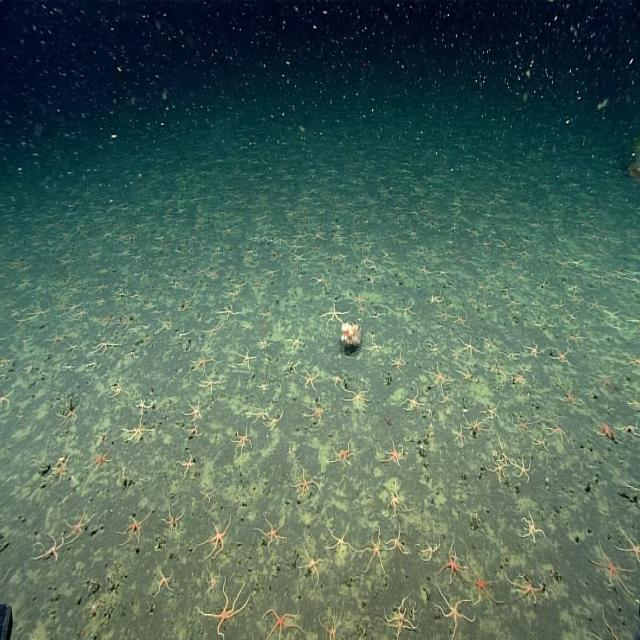brittle-stars: (194, 574, 252, 639), (586, 536, 635, 597), (431, 579, 476, 640), (463, 544, 502, 608), (192, 511, 232, 561), (382, 587, 418, 640), (260, 597, 301, 640), (113, 505, 154, 548), (356, 521, 386, 576), (504, 568, 545, 606), (65, 498, 99, 543), (609, 516, 640, 564), (435, 535, 468, 580), (252, 513, 288, 554), (324, 521, 356, 565), (378, 476, 412, 516), (296, 542, 326, 586), (30, 528, 65, 564), (120, 412, 156, 446), (422, 356, 454, 394), (82, 441, 114, 477), (338, 380, 371, 414), (290, 460, 320, 497), (516, 504, 546, 540), (317, 301, 349, 332), (317, 597, 340, 640), (383, 519, 410, 555), (56, 395, 82, 432), (459, 410, 490, 441), (589, 414, 620, 444), (327, 434, 355, 466), (49, 448, 73, 485), (378, 431, 402, 467), (557, 374, 583, 407), (301, 395, 329, 425), (230, 422, 254, 457), (483, 452, 509, 484), (451, 331, 484, 356), (191, 346, 217, 376), (547, 341, 577, 367), (160, 504, 186, 534), (476, 392, 501, 422), (153, 564, 175, 598), (415, 532, 439, 563), (201, 562, 222, 596), (214, 298, 242, 323), (397, 388, 426, 412), (176, 446, 197, 479), (483, 360, 508, 385), (200, 317, 224, 343), (181, 394, 203, 422), (511, 449, 530, 481), (262, 404, 284, 431), (509, 411, 533, 435), (91, 336, 123, 354), (432, 299, 456, 323), (362, 331, 385, 356), (234, 342, 256, 368), (611, 417, 639, 437), (42, 328, 69, 348), (385, 346, 407, 370), (448, 304, 470, 328), (302, 367, 322, 393), (495, 340, 518, 362), (395, 297, 416, 321), (0, 382, 20, 407), (197, 376, 220, 397), (520, 334, 539, 359), (451, 422, 469, 448), (541, 417, 564, 437), (476, 330, 495, 354), (489, 435, 508, 459), (245, 402, 267, 422), (309, 269, 327, 293), (182, 421, 202, 442), (172, 292, 193, 312), (284, 330, 304, 350), (117, 307, 135, 329), (359, 270, 381, 288), (438, 383, 455, 406), (134, 397, 154, 416), (153, 316, 173, 335), (346, 291, 371, 306), (106, 378, 124, 398), (198, 484, 216, 504), (72, 304, 92, 322), (506, 368, 524, 388), (95, 313, 115, 331), (455, 364, 474, 382), (140, 327, 156, 348), (360, 256, 381, 272), (531, 434, 549, 452), (418, 264, 434, 283), (255, 331, 270, 350), (429, 288, 445, 305), (367, 307, 384, 323), (86, 355, 99, 375), (434, 265, 451, 280), (423, 338, 439, 353), (328, 372, 344, 387), (125, 346, 140, 362), (255, 378, 272, 392), (113, 287, 130, 301), (337, 248, 353, 262), (129, 287, 142, 304), (222, 288, 236, 302), (252, 274, 263, 291), (356, 301, 367, 318), (330, 252, 341, 266)
